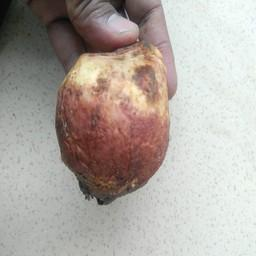Bad_guava: (53, 41, 173, 207)
